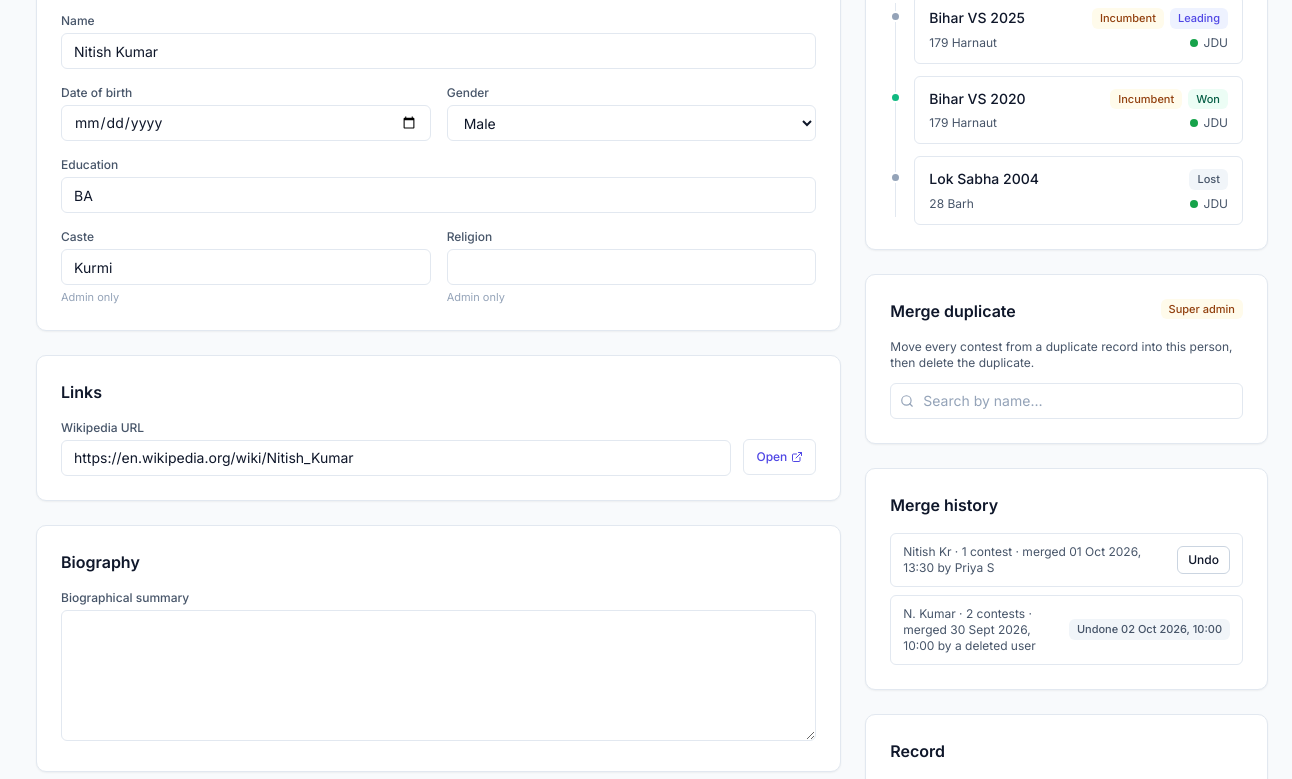
Test case: Merge duplicate › a failed reload after a merge shows an inline retry
(page scrolled)
Type "Nitish" into the search field named "Search duplicates" at (1067, 400), box [890,382,1243,418]
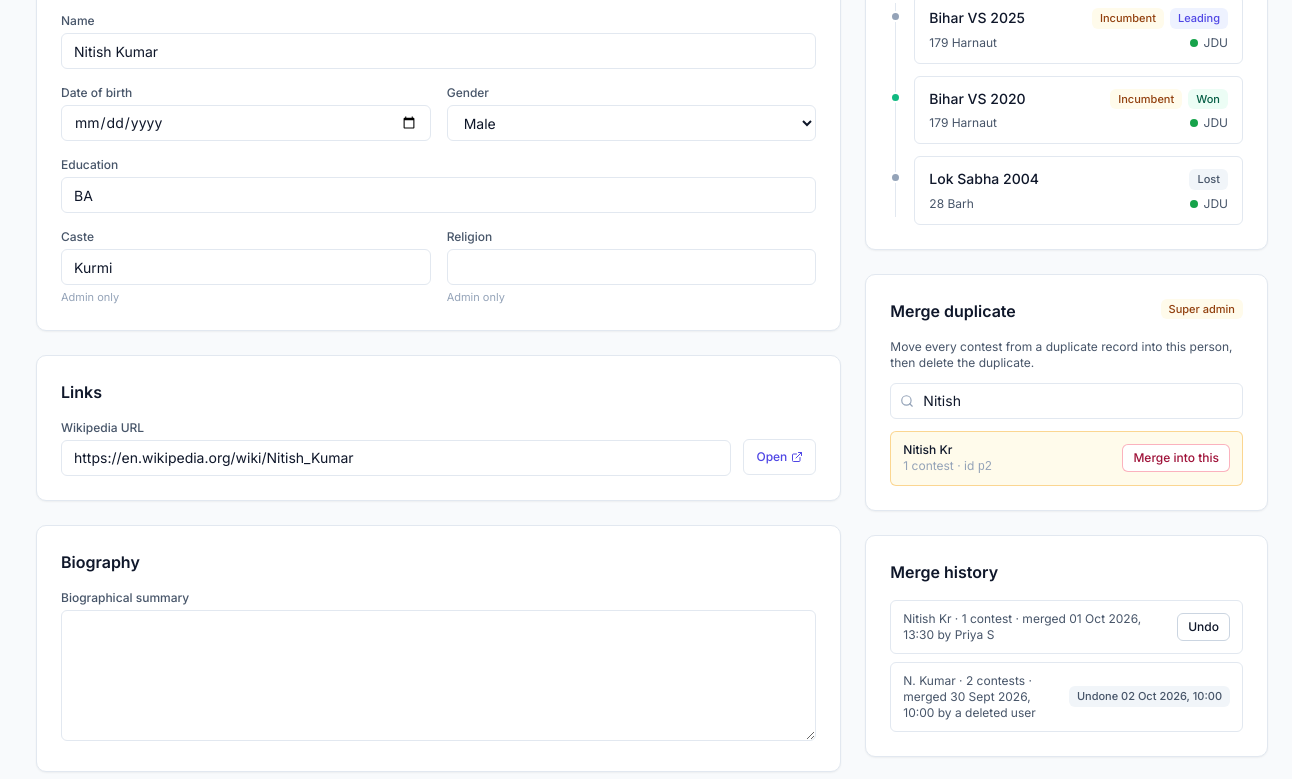
Click the button with aria-label "Merge Nitish Kr into this record" at (1176, 458), box [1122,444,1230,472]
(page scrolled)
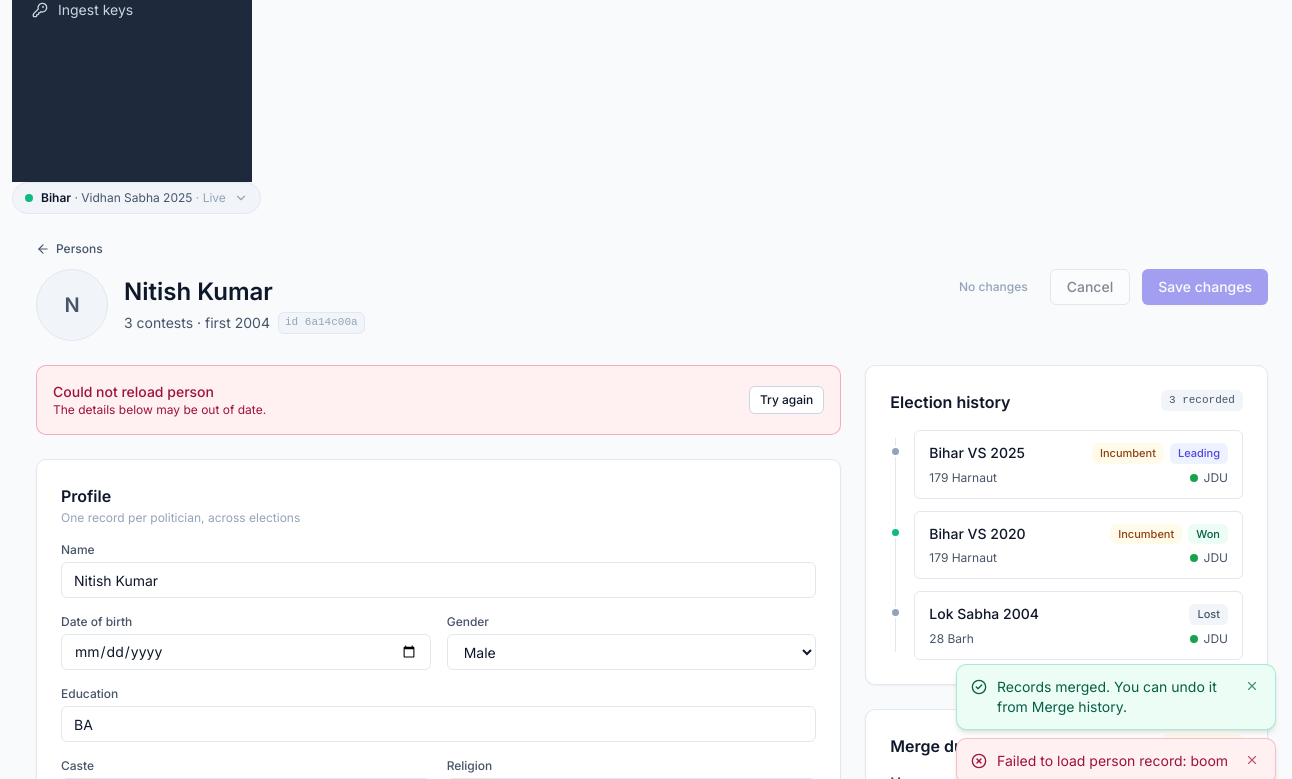
Click the button "Try again" at (787, 400), box [749,386,824,414]
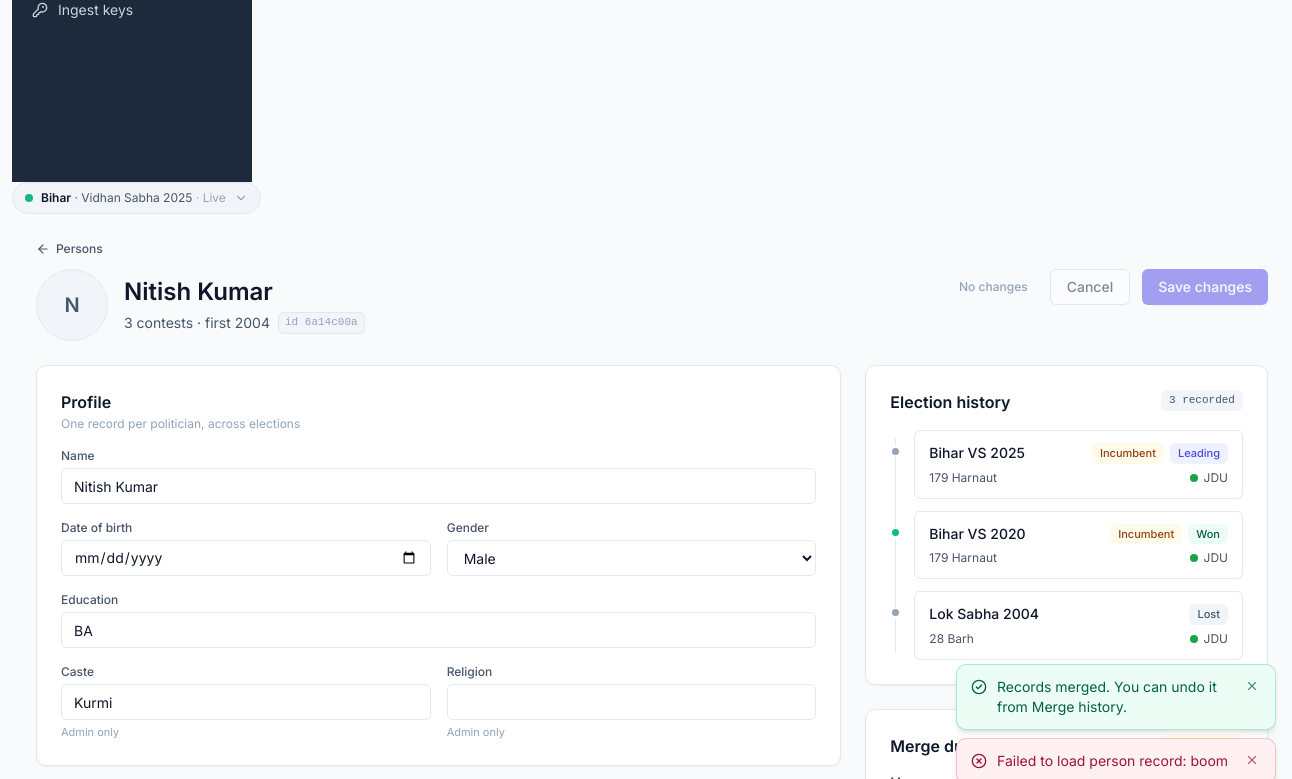
Expected: the heading "Nitish Kumar" is shown, [124,276,273,308]
Expected: the text "Could not reload person" is gone
